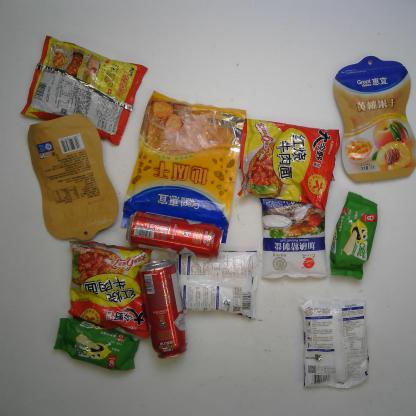Alcohol: (140, 257, 191, 360), (126, 210, 227, 262)
Dessert: (52, 313, 140, 373), (329, 188, 379, 280)
Dried Fruit: (119, 87, 246, 245), (26, 112, 122, 245), (332, 53, 416, 185)
Instant Noodles: (18, 34, 149, 148), (236, 116, 340, 211), (66, 236, 155, 340)
Seasoner: (256, 184, 331, 282), (300, 296, 372, 391), (172, 247, 262, 323)
